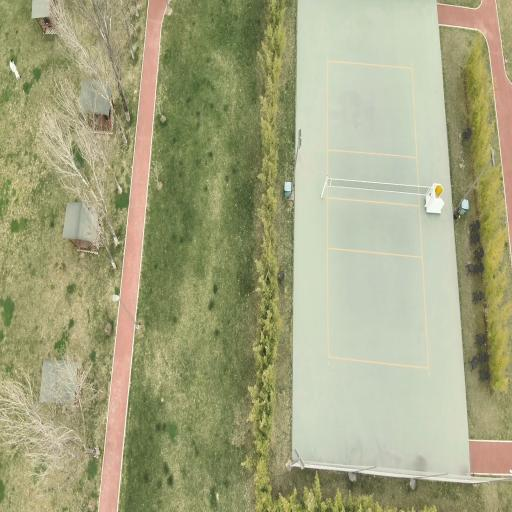person: (10, 59, 21, 79)
